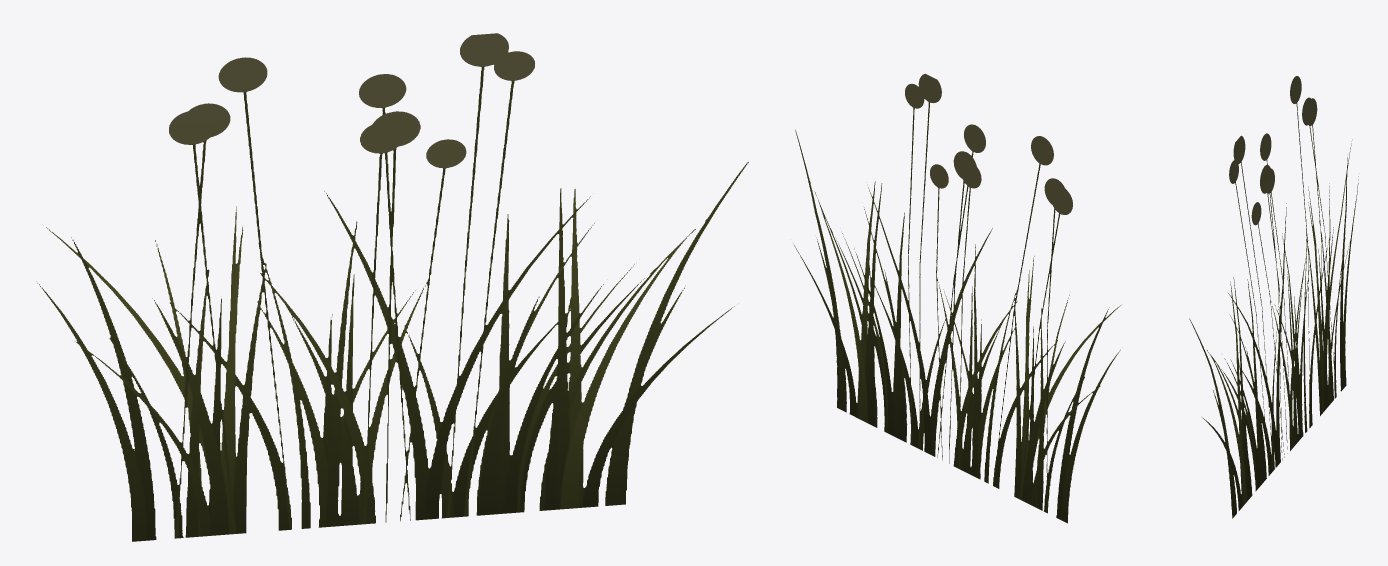
Rendered from cotton_grass_1_burnt3.glb.
The picture shows the model from 3 angles, left to right: view 1: azimuth 30°, elevation 25°; view 2: azimuth 150°, elevation 25°; view 3: azimuth 270°, elevation 25°; orthographic projection. The views are drawn at different scales.
Visible parts, largest first — view 1: cotton_grass_1_burnt3; view 2: cotton_grass_1_burnt3; view 3: cotton_grass_1_burnt3.
Part boxes in pixels (bbox=[...]): cotton_grass_1_burnt3: bbox=[36, 33, 748, 541]; cotton_grass_1_burnt3: bbox=[793, 73, 1120, 523]; cotton_grass_1_burnt3: bbox=[1189, 76, 1358, 518].
Size of the model in its own units: 0.5825 by 0.4523 by 0.2408.
Materials: 1 (1 with a texture image).
